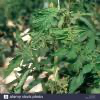Tomato leaf yellow virus: (30, 8, 61, 34), (6, 51, 27, 80), (67, 42, 82, 63), (72, 26, 87, 33)
